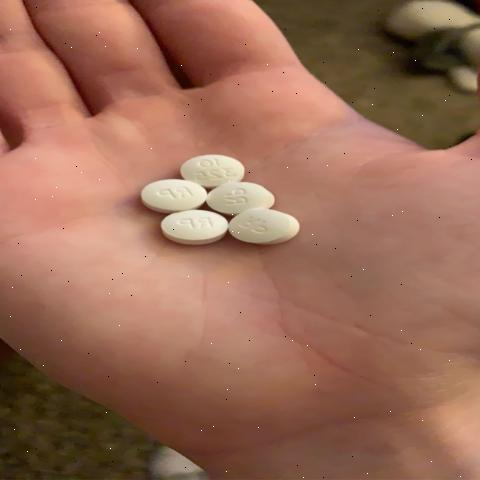Pill: (140, 205, 224, 257), (220, 205, 304, 250), (201, 178, 287, 214), (129, 178, 209, 210), (184, 152, 248, 185)
